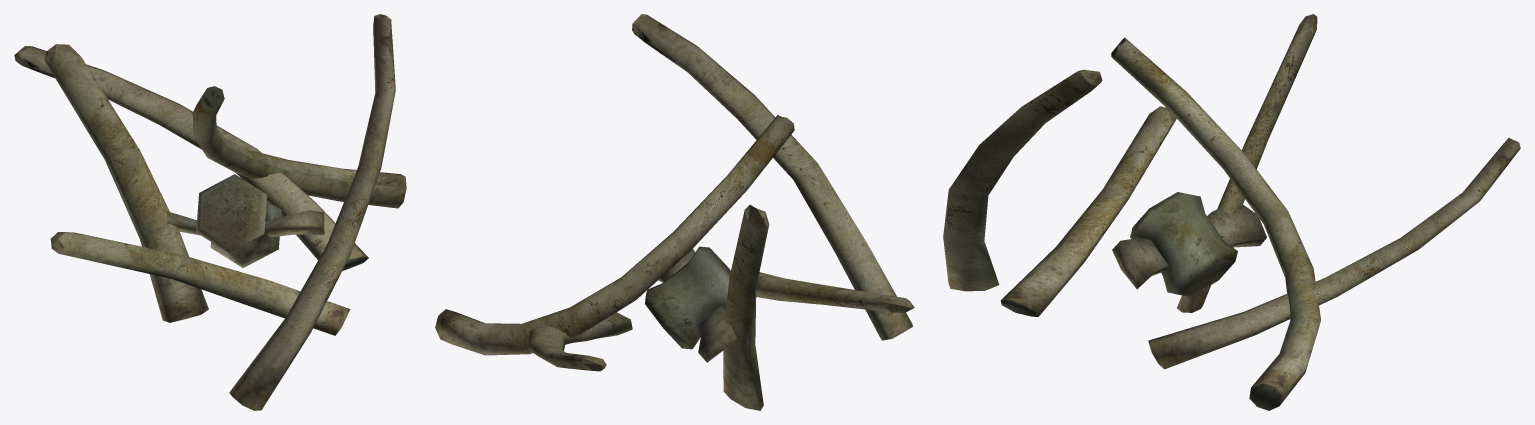
Rendered from bone_whale_lump03.fbx.
The picture shows the model from 3 angles, left to right: view 1: azimuth 30°, elevation 25°; view 2: azimuth 150°, elevation 25°; view 3: azimuth 270°, elevation 25°; orthographic projection. The views are drawn at different scales.
Parts seen in each view (by area): view 1: bone_whale_lump02; view 2: bone_whale_lump02; view 3: bone_whale_lump02.
Boxes of the visible parts, x1,y1,x2,y2 form: bone_whale_lump02: (14, 14, 406, 410); bone_whale_lump02: (435, 14, 914, 410); bone_whale_lump02: (943, 14, 1520, 410).
Bounding box in the file's own units: 13.05 × 9.35 × 15.4.
